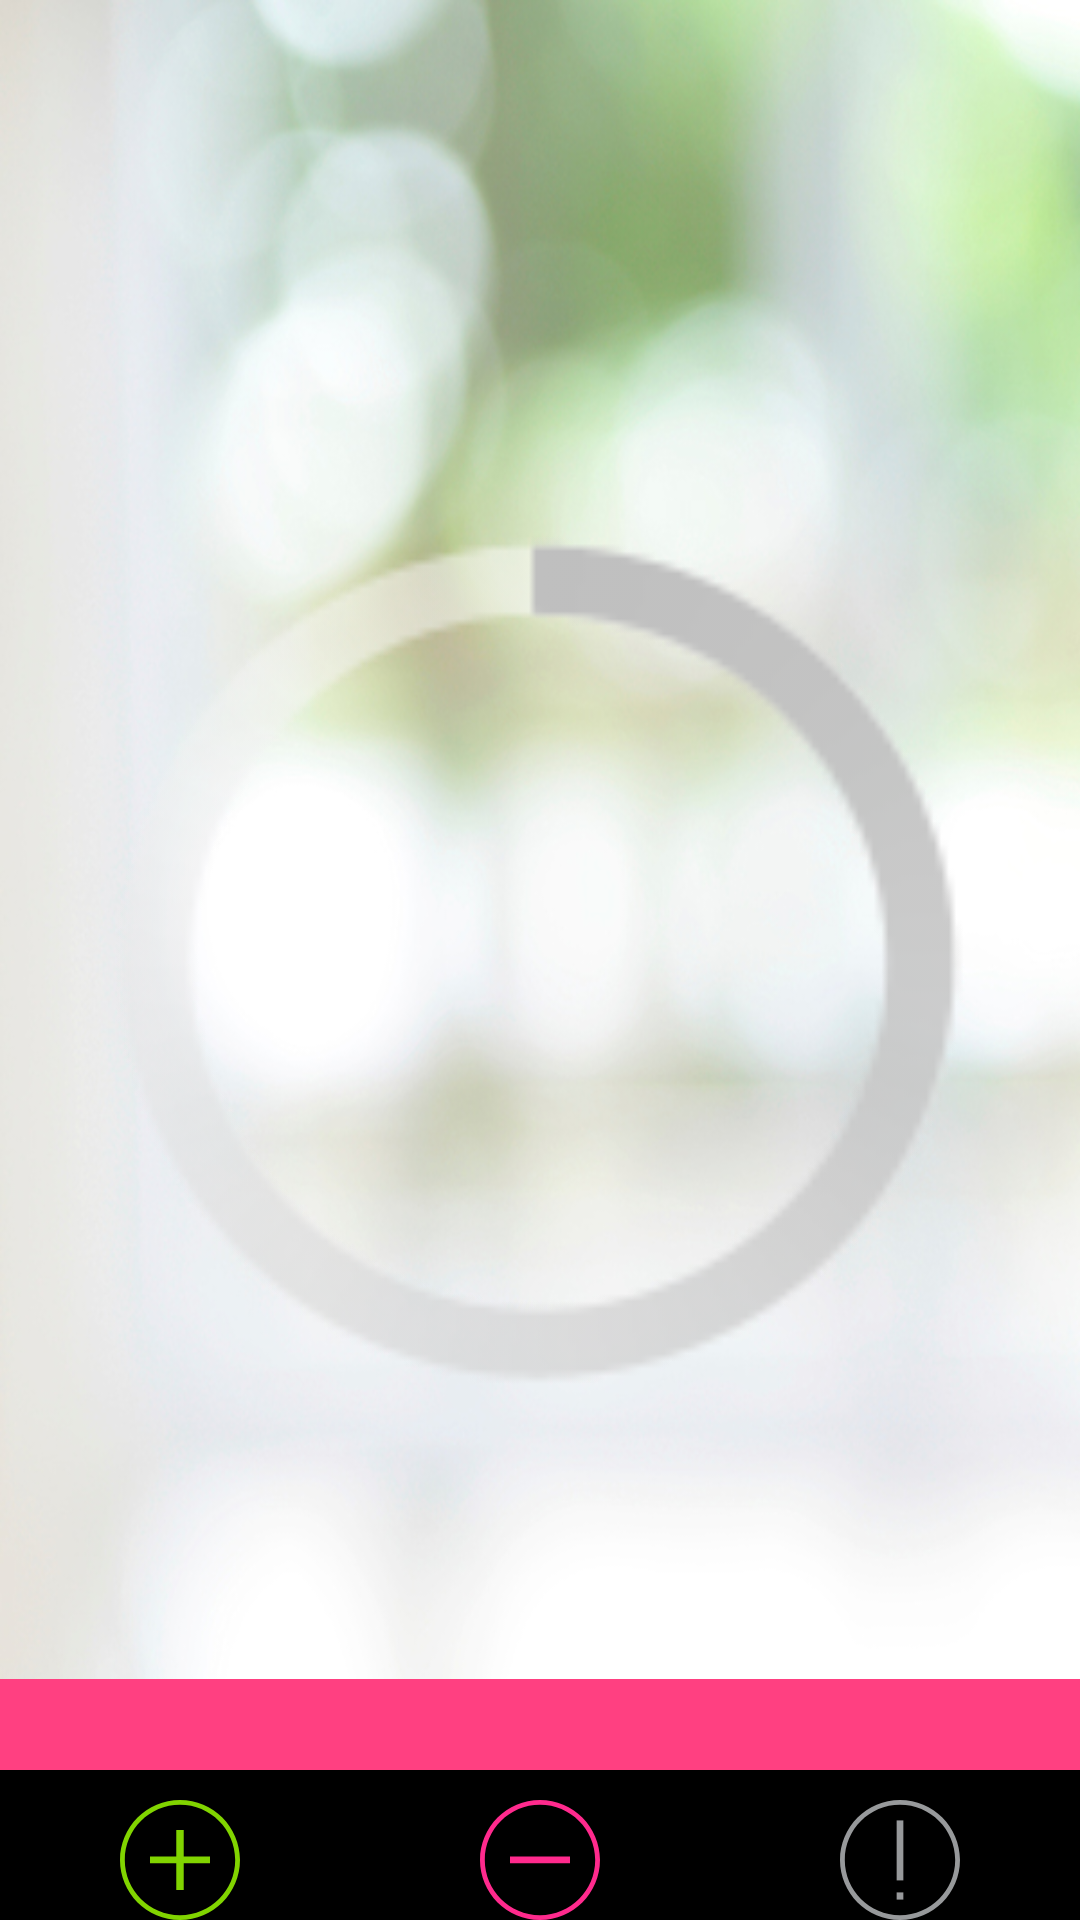

Named icons in this screenshot (1080 × 1920) and their bounding boxes, (left=x1, top=y1, right=x2, bottom=y2):
Add button for nutrition entry: (left=120, top=1800, right=240, bottom=1920)
Delete button for nutrition entry: (left=480, top=1800, right=600, bottom=1920)
